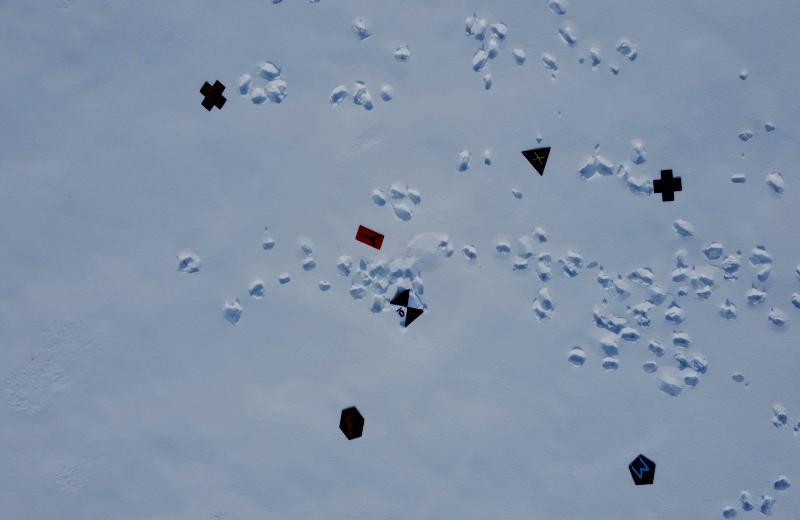Cross: (196, 69, 231, 117), (648, 165, 687, 207)
Hexagon: (333, 399, 371, 444)
Pentagon: (622, 447, 660, 494)
Rectangle: (352, 216, 389, 253)
Triangle: (519, 139, 560, 181)
